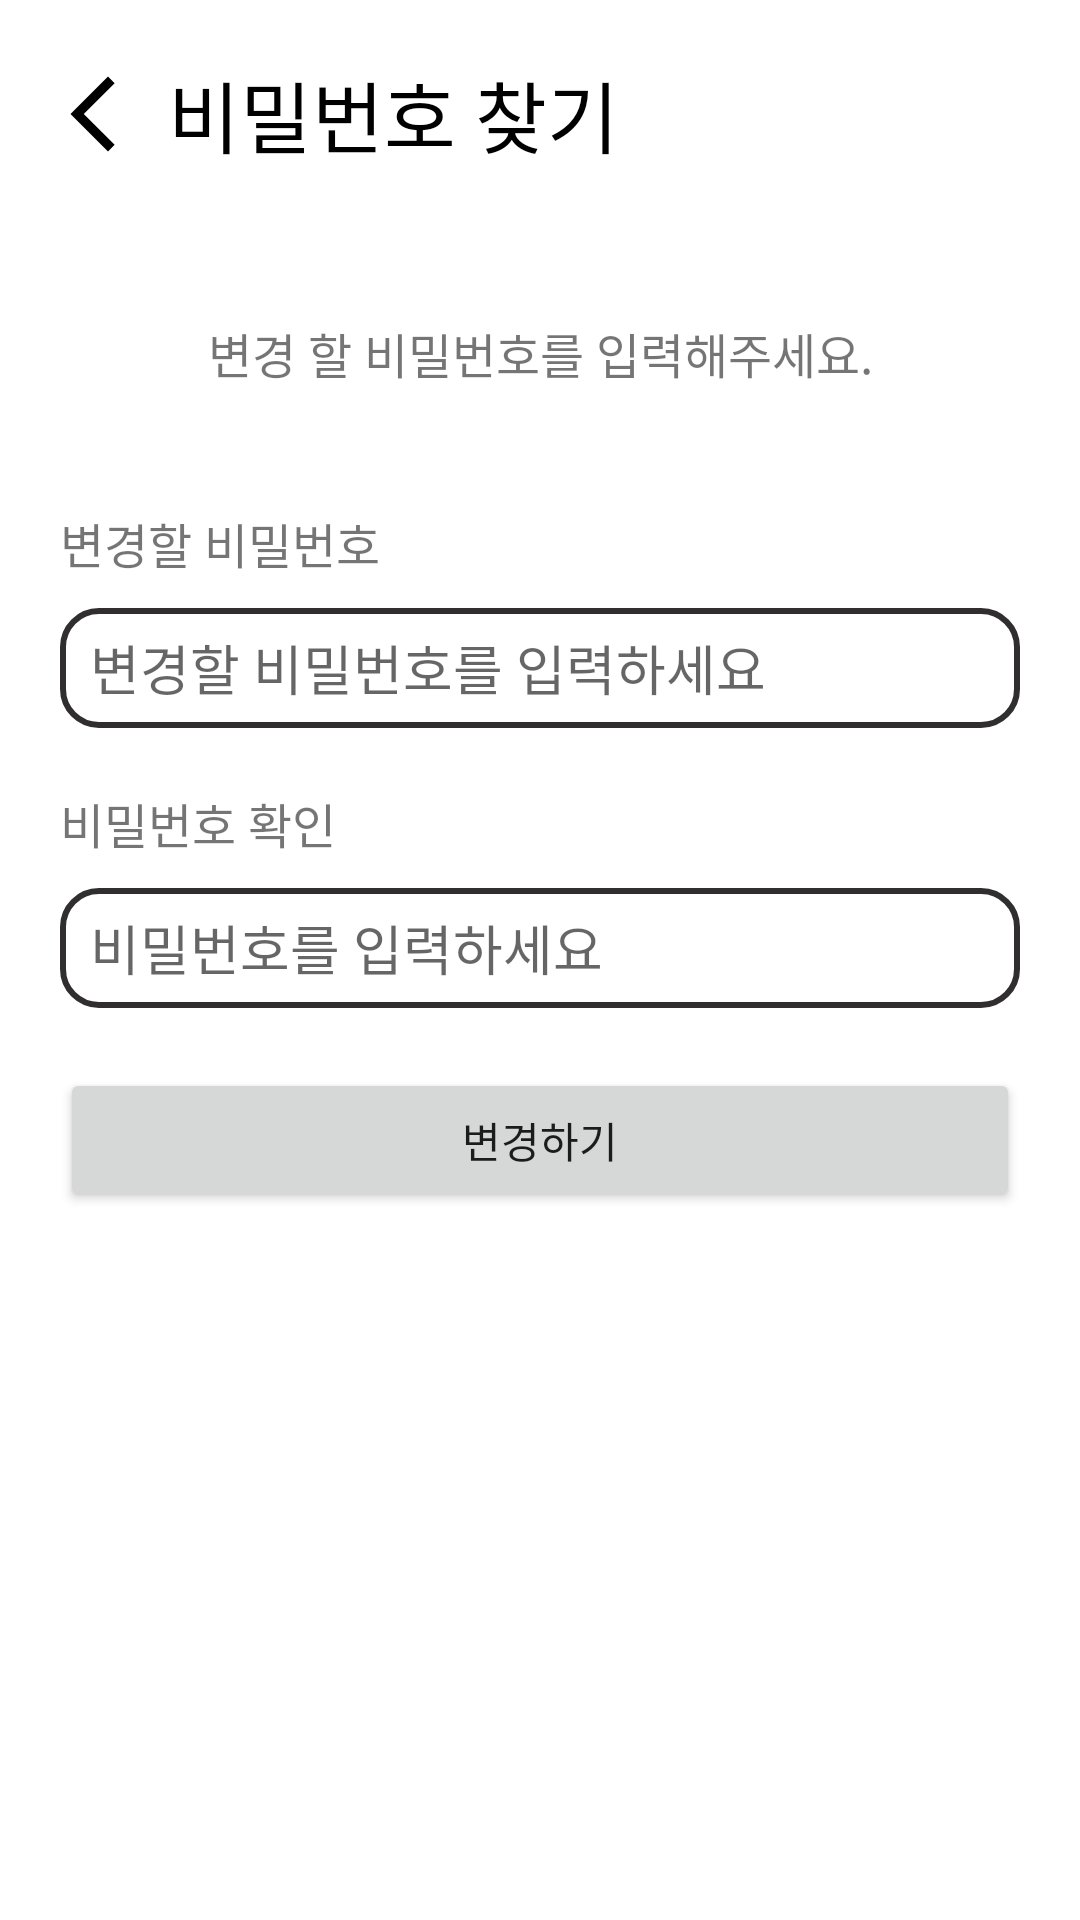

Screen size 1080*1920. Icon name, then its box in pixels as [x1=x1, y1=y1, x2=x2, y2=y2]:
back: [x1=70, y1=76, x2=115, y2=152]
